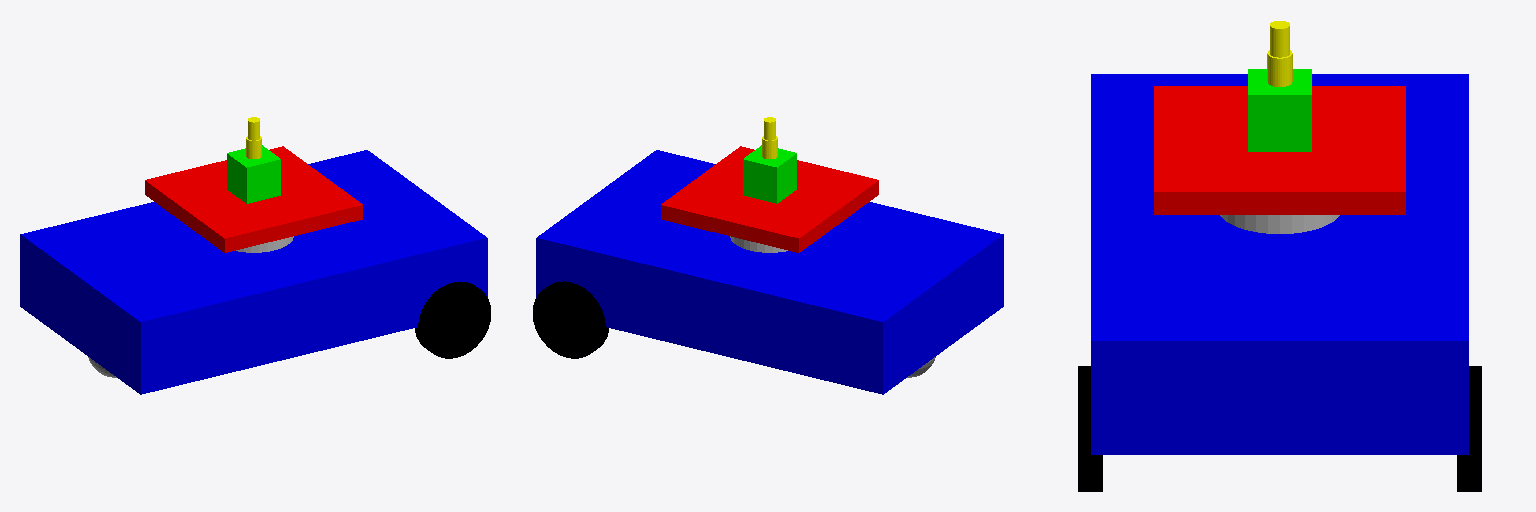
robot.urdf — artist_robot:
<?xml version="1.0"?>
<robot name="artist_robot">

  <!-- Звено: Корпус робота -->
  <link name="base_link">
    <visual>
      <geometry>
        <!-- <mesh filename="package://artist_robot/urdf/base_link.dae"/> -->
        <box size="0.5 0.3 0.1"/>
      </geometry>
      <material name="blue">
        <color rgba="0 0 1 1"/>
      </material>
    </visual>
    <collision>
      <geometry>
        <box size="0.5 0.3 0.1"/>
      </geometry>
    </collision>
    <inertial>
      <mass value="5.0"/> <!-- Масса 5 кг -->
      <inertia ixx="0.1" ixy="0.0" ixz="0.0" iyy="0.1" iyz="0.0" izz="0.1"/>
    </inertial>
  </link>

  <link name="left_wheel">
    <visual>
      <geometry>
        <!-- <mesh filename="package://artist_robot/urdf/wheel.dae"/> -->
        <cylinder radius="0.05" length="0.02"/>
      </geometry>
      <material name="black">
        <color rgba="0 0 0 1"/>
      </material>
    </visual>
    <collision>
      <geometry>
        <cylinder radius="0.05" length="0.02"/>
      </geometry>
    </collision>
    <inertial>
      <mass value="0.5"/> <!-- Масса 0.5 кг -->
      <inertia ixx="0.001" ixy="0.0" ixz="0.0" iyy="0.001" iyz="0.0" izz="0.001"/>
    </inertial>
  </link>
  <link name="right_wheel">
    <visual>
      <geometry>
        <!-- <mesh filename="package://artist_robot/urdf/wheel.dae"/> -->
        <cylinder radius="0.05" length="0.02"/>
      </geometry>
      <material name="black">
        <color rgba="0 0 0 1"/>
      </material>
    </visual>
    <collision>
      <geometry>
        <cylinder radius="0.05" length="0.02"/>
      </geometry>
    </collision>
    <inertial>
      <mass value="0.5"/>
      <inertia ixx="0.001" ixy="0.0" ixz="0.0" iyy="0.001" iyz="0.0" izz="0.001"/>
    </inertial>
  </link>
  <link name="caster_wheel">
    <visual>
      <geometry>
        <sphere radius="0.035"/>
      </geometry>
      <material name="grey">
        <color rgba="0.6 0.6 0.6 1"/>
      </material>
    </visual>
    <collision>
      <geometry>
        <sphere radius="0.035"/>
      </geometry>
    </collision>
    <inertial>
      <mass value="0.5"/>
      <inertia ixx="0.001" ixy="0.0" ixz="0.0" iyy="0.001" iyz="0.0" izz="0.001"/>
    </inertial>
  </link>

  <link name="lift_arm">
    <visual>
      <geometry>
        <!-- <mesh filename="package://artist_robot/urdf/lift_arm.dae"/> -->
        <cylinder radius="0.05" length="0.1"/>
    </geometry>
      <material name="silver">
        <color rgba="0.8 0.8 0.8 1"/>
      </material>
    </visual>
    <collision>
        <geometry>
            <cylinder radius="0.05" length="0.1"/>
        </geometry>
    </collision>
    <inertial>
        <mass value="0.5"/>
        <inertia ixx="0.01" ixy="0.0" ixz="0.0" iyy="0.01" iyz="0.0" izz="0.01"/>
    </inertial>
  </link>

  <!-- Звено: Платформа кисти -->
  <link name="brush_platform">
    <visual>
      <geometry>
        <!-- <mesh filename="package://artist_robot/urdf/brush_platform.dae"/> -->
        <box size="0.2 0.2 0.02"/>
      </geometry>
      <material name="red">
        <color rgba="1 0 0 1"/>
      </material>
    </visual>
    <collision>
      <geometry>
        <box size="0.2 0.2 0.02"/>
      </geometry>
    </collision>
    <inertial>
      <mass value="0.2"/>
      <inertia ixx="0.001" ixy="0.0" ixz="0.0" iyy="0.001" iyz="0.0" izz="0.001"/>
    </inertial>
  </link>

  <!-- Звено: Рычаг кисти -->
  <link name="brush_arm">
    <visual>
      <geometry>
        <box size="0.05 0.05 0.1"/>
        <!-- <mesh filename="package://artist_robot/urdf/brush_arm.dae"/> -->
      </geometry>
      <material name="green">
        <color rgba="0 1 0 1"/>
      </material>
    </visual>
    <collision>
      <geometry>
        <box size="0.05 0.05 0.1"/>
      </geometry>
    </collision>
    <inertial>
      <mass value="0.1"/>
      <inertia ixx="0.001" ixy="0.0" ixz="0.0" iyy="0.001" iyz="0.0" izz="0.001"/>
    </inertial>
  </link>

  <!-- Звено: Кончик кисти -->
  <link name="brush_tip">
    <visual>
      <geometry>
        <!-- <mesh filename="package://artist_robot/urdf/brush_tip.dae"/> -->
        <cylinder radius="0.01" length="0.05"/>
      </geometry>
      <material name="yellow">
        <color rgba="1 1 0 1"/>
      </material>
    </visual>
    <collision>
      <geometry>
        <cylinder radius="0.01" length="0.05"/>
      </geometry>
    </collision>
    <inertial>
      <mass value="0.05"/>
      <inertia ixx="0.0001" ixy="0.0" ixz="0.0" iyy="0.0001" iyz="0.0" izz="0.0001"/>
    </inertial>
  </link>

  <!-- Звено: Выдвижная часть кисти -->
  <link name="brush_tip_extension">
    <visual>
      <geometry>
        <cylinder radius="0.008" length="0.05"/>
        <!-- <mesh filename="package://artist_robot/urdf/brush_tip_extension.dae"/> -->
      </geometry>
      <material name="yellow"/>
    </visual>
    <collision>
      <geometry>
        <cylinder radius="0.008" length="0.05"/>
      </geometry>
    </collision>
    <inertial>
      <mass value="0.03"/>
      <inertia ixx="0.0001" ixy="0.0" ixz="0.0" iyy="0.0001" iyz="0.0" izz="0.0001"/>
    </inertial>
  </link>

  <!-- Соединения -->

  <!-- Колеса к креплениям/корпусу (continuous для движения) -->
  <joint name="base_to_left_wheel" type="continuous">
    <parent link="base_link"/>
    <child link="left_wheel"/>
    <origin xyz="0.2 0.15 -0.05" rpy="1.5708 0 0"/> <!-- Поворот на 90° вокруг X -->
    <axis xyz="0 0 1"/> <!-- Вращение вокруг локальной Y (глобальная Y) -->
  </joint>
  <joint name="base_to_right_wheel" type="continuous">
    <parent link="base_link"/>
    <child link="right_wheel"/>
    <origin xyz="0.2 -0.15 -0.05" rpy="1.5708 0 0"/> <!-- Поворот на 90° вокруг X -->
    <axis xyz="0 0 1"/> <!-- Вращение вокруг локальной Y -->
  </joint>
  <joint name="base_to_caster_wheel" type="fixed">
    <parent link="base_link"/>
    <child link="caster_wheel"/>
    <origin xyz="-0.2 0.0 -0.06" rpy="0 0 0"/> <!-- Заднее левое -->
  </joint>
  
  <joint name="base_to_lift_arm" type="prismatic">
    <parent link="base_link"/>
    <child link="lift_arm"/>
    <origin xyz="0 0 0.05" rpy="0 0 0"/>
    <axis xyz="0 0 1"/> <!-- Движение по Z -->
    <limit lower="0" upper="0.5" effort="20" velocity="0.2"/> <!-- 0–50 см -->
  </joint>
  <joint name="lift_arm_to_brush_platform" type="fixed">
      <parent link="lift_arm"/>
      <child link="brush_platform"/>
      <origin xyz="0 0 0.05"/>
  </joint>

  <!-- Рычаг кисти к платформе (planar joint) -->
  <joint name="platform_to_brush_arm" type="prismatic">
    <parent link="brush_platform"/>
    <child link="brush_arm"/>
    <origin xyz="0 0 0.01"/> <!-- Слегка выше платформы -->
    <axis xyz="1 0 0"/>
    <limit effort="10" velocity="0.1" lower="-0.1" upper="0.1"/> <!-- Ограничение ±10 см -->
  </joint>

  <!-- Кончик кисти к рычагу (revolute joint) -->
  <joint name="arm_to_brush_tip" type="revolute">
    <parent link="brush_arm"/>
    <child link="brush_tip"/>
    <origin xyz="0 0 0.05" rpy="0 0 0"/> <!-- На конце рычага -->
    <axis xyz="1 0 0"/> <!-- Вращение вокруг оси X -->
    <limit lower="-1.57" upper="1.57" effort="10" velocity="1"/> <!-- ±90° -->
  </joint>

  <!-- Выдвижение кончика кисти (prismatic joint) -->
  <joint name="brush_tip_to_extension" type="prismatic">
    <parent link="brush_tip"/>
    <child link="brush_tip_extension"/>
    <origin xyz="0 0 0.025"/> <!-- Смещение на половину длины brush_tip -->
    <axis xyz="0 0 1"/> <!-- Выдвижение по оси Z -->
    <limit lower="0" upper="0.25" effort="10" velocity="0.1"/> <!-- Выдвижение до 5 см -->
  </joint>
</robot>

--- Render facts (derived) ---
Views: 3 orthographic renders of the robot side by side, from view 1: azimuth 30°, elevation 25°; view 2: azimuth 150°, elevation 25°; view 3: azimuth 270°, elevation 25°.
Robot: artist_robot — 9 links, 8 joints (1 revolute, 2 continuous, 3 prismatic, 2 fixed); root link base_link; default pose: all joints at 0.
Links seen in each view (by area): view 1: base_link, brush_platform, right_wheel, brush_arm; view 2: base_link, brush_platform, left_wheel, brush_arm; view 3: base_link, brush_platform, brush_arm, left_wheel, right_wheel, lift_arm, brush_tip, brush_tip_extension.
Boxes of the visible links, x1,y1,x2,y2 form: base_link: [20, 150, 487, 394]; brush_platform: [145, 146, 362, 252]; right_wheel: [415, 281, 490, 358]; brush_arm: [227, 145, 280, 203]; base_link: [536, 150, 1003, 394]; brush_platform: [661, 146, 878, 252]; left_wheel: [533, 281, 608, 358]; brush_arm: [743, 145, 796, 203]; base_link: [1091, 74, 1468, 454]; brush_platform: [1154, 86, 1405, 214]; brush_arm: [1248, 69, 1311, 151]; left_wheel: [1457, 366, 1481, 491]; right_wheel: [1078, 366, 1102, 491]; lift_arm: [1220, 215, 1339, 233]; brush_tip: [1267, 50, 1292, 86]; brush_tip_extension: [1270, 21, 1289, 57].
Bounding box of the posed robot: 0.5 × 0.32 × 0.31 m (x, y, z).
Geometry: primitives only (box / cylinder / sphere), no mesh files.